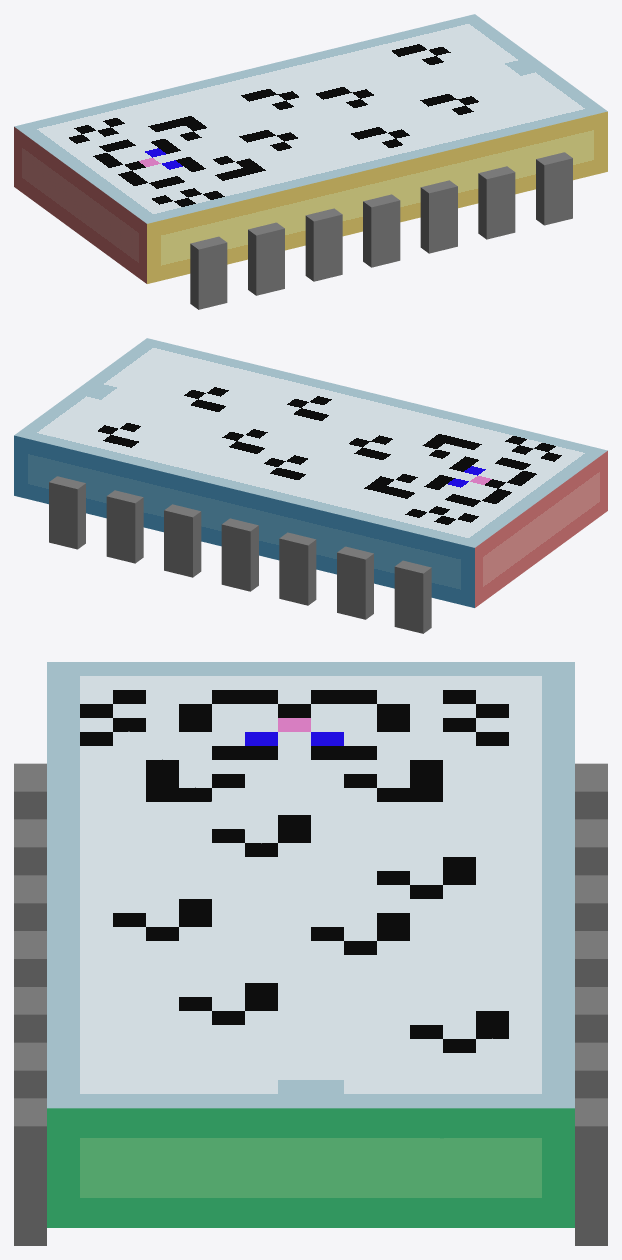
Rendered from rom.obj.
The picture shows the model from 3 angles, top to bottom: view 1: azimuth 30°, elevation 25°; view 2: azimuth 150°, elevation 25°; view 3: azimuth 270°, elevation 25°; orthographic projection. The views are drawn at different scales.
Parts seen in each view (by area): view 1: mesh; view 2: mesh; view 3: mesh.
Part boxes in pixels (x1,y1,x2,y2): mesh: (14, 14, 607, 309); mesh: (14, 338, 607, 633); mesh: (14, 662, 607, 1245).
Size of the model in its own units: 1 by 0.1875 by 0.5625.
Materials: 1 (1 with a texture image).
